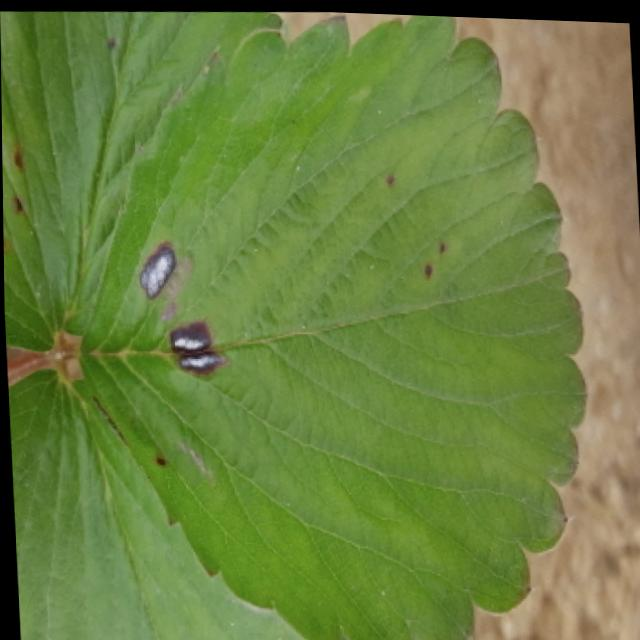Leaf Spot: (48, 12, 588, 640), (0, 9, 284, 351)
